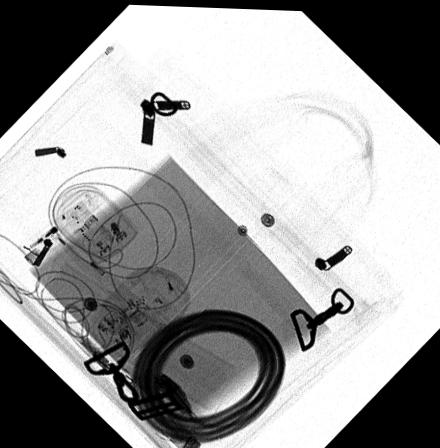Lighter: (21, 199, 99, 266)
